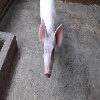heo: (35, 17, 65, 78)
